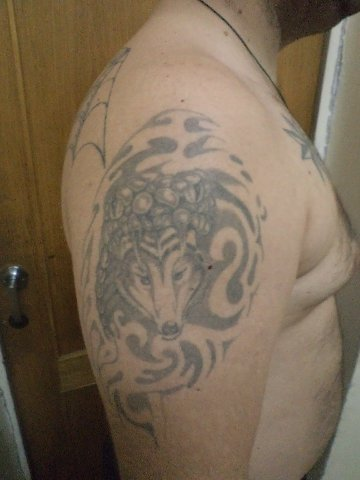tatu7_zmeya: (88, 113, 270, 437)
